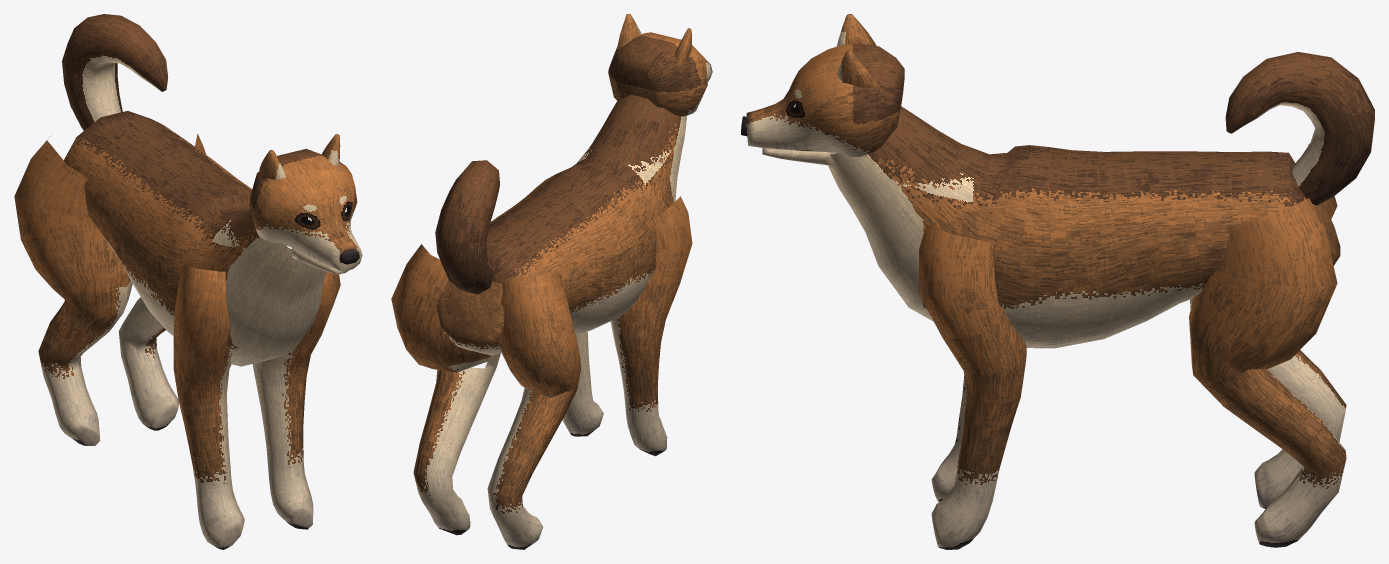
Rendered from dog_chibi.glb.
The picture shows the model from 3 angles, left to right: view 1: azimuth 30°, elevation 25°; view 2: azimuth 150°, elevation 25°; view 3: azimuth 270°, elevation 25°; orthographic projection. The views are drawn at different scales.
Parts seen in each view (by area): view 1: dog_chibi; view 2: dog_chibi; view 3: dog_chibi.
Boxes of the visible parts, bbox=[...] form: dog_chibi: bbox=[14, 14, 362, 549]; dog_chibi: bbox=[391, 14, 712, 549]; dog_chibi: bbox=[741, 14, 1374, 549].
Bounding box in the file's own units: 0.2465 × 0.5454 × 0.6336.
Materials: 1 (1 with a texture image).
